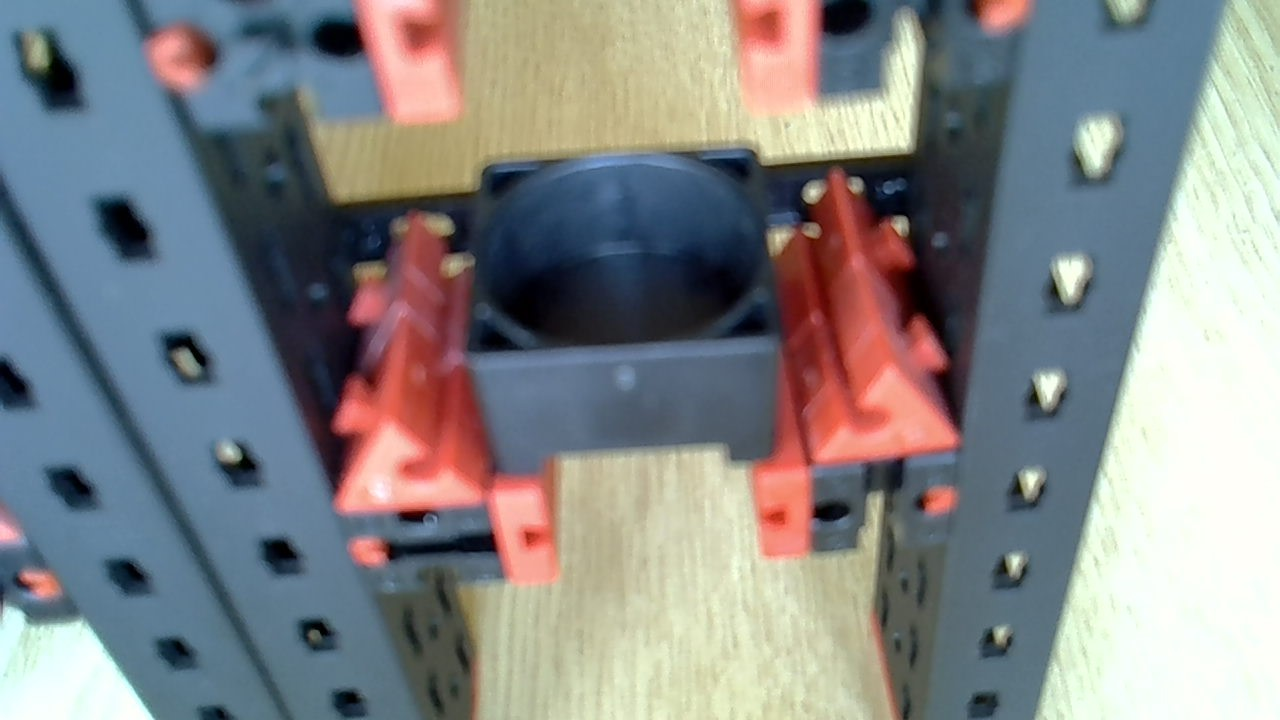Behaelter: (471, 154, 784, 459)
